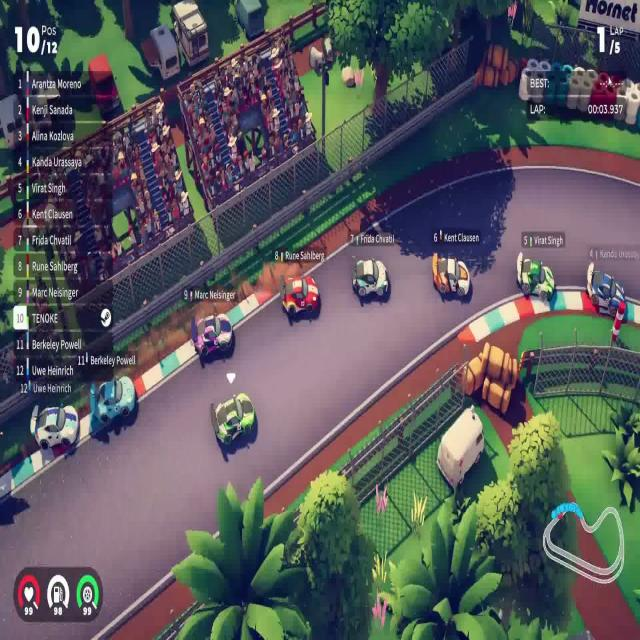car: (89, 374, 137, 430), (29, 403, 80, 451), (586, 262, 627, 320), (213, 391, 255, 447), (190, 310, 233, 360), (516, 250, 554, 301), (432, 250, 471, 298), (281, 274, 320, 320), (352, 256, 389, 301)
